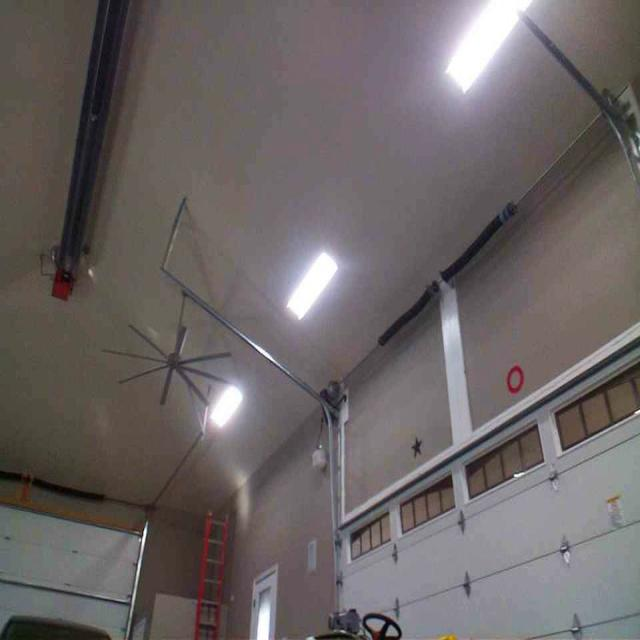ring_red: (505, 361, 525, 395)
star_black: (410, 434, 423, 458)
